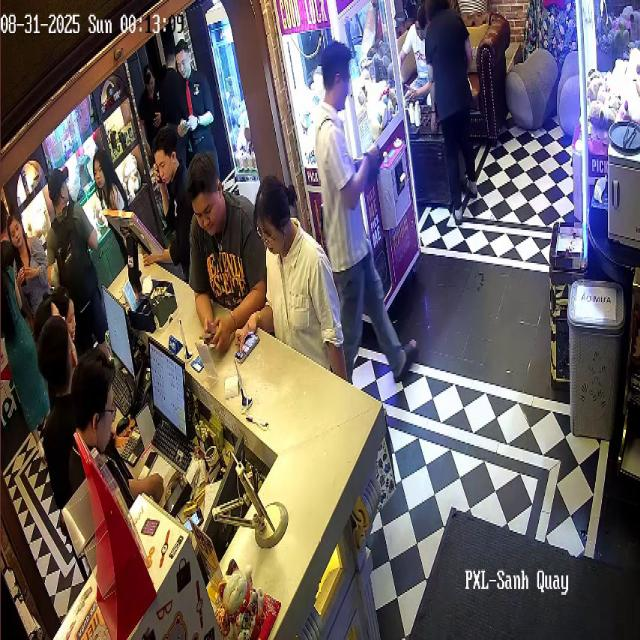khach: (312, 37, 419, 414), (255, 149, 354, 406), (179, 152, 267, 352), (44, 163, 102, 337), (92, 152, 134, 245)
nhan vien: (69, 353, 165, 565), (421, 4, 487, 236), (175, 38, 233, 192), (35, 315, 80, 482), (152, 137, 195, 263), (135, 53, 182, 164)
